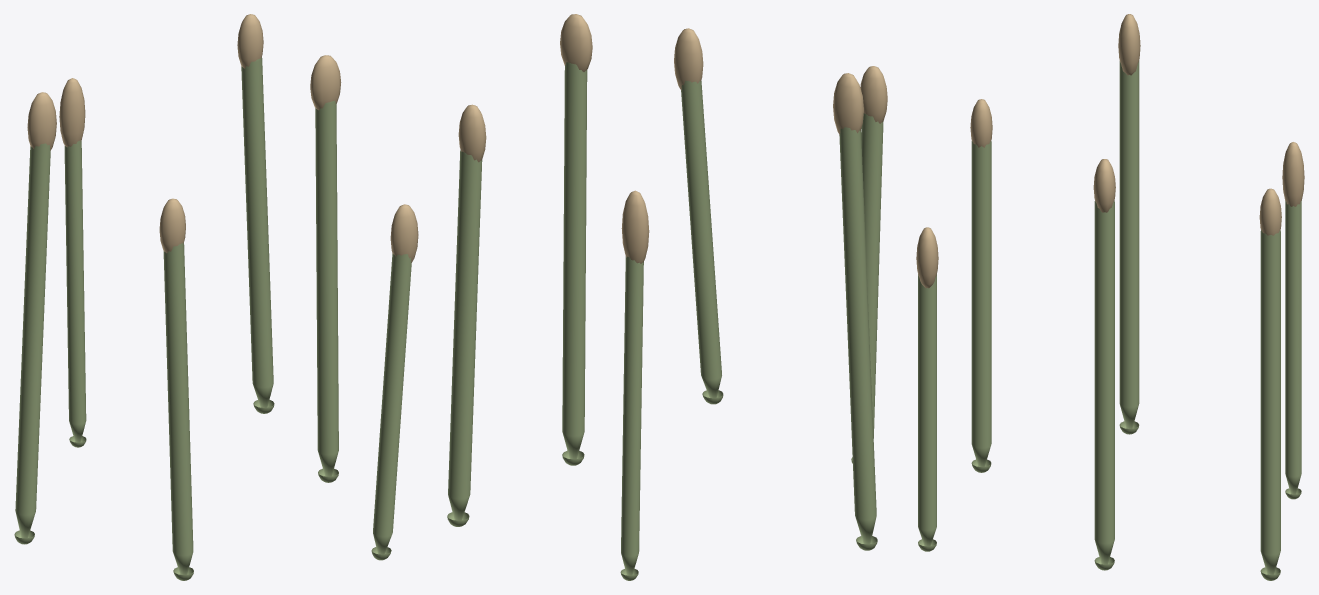
Rendered from reed-sparse.glb.
3 renders of one model, left to right at view 1: azimuth 30°, elevation 25°; view 2: azimuth 150°, elevation 25°; view 3: azimuth 270°, elevation 25°, orthographic. The views are drawn at different scales.
Visible parts, largest first — view 1: stems, heads; view 2: stems, heads; view 3: stems, heads.
Boxes of the visible parts, <box> form: stems: <box>14,57,411,580</box>; heads: <box>27,14,418,262</box>; stems: <box>447,62,883,580</box>; heads: <box>458,14,887,263</box>; stems: <box>918,60,1301,580</box>; heads: <box>916,14,1304,288</box>.
Bounding box in the file's own units: 0.4606 × 0.5943 × 0.4888.
